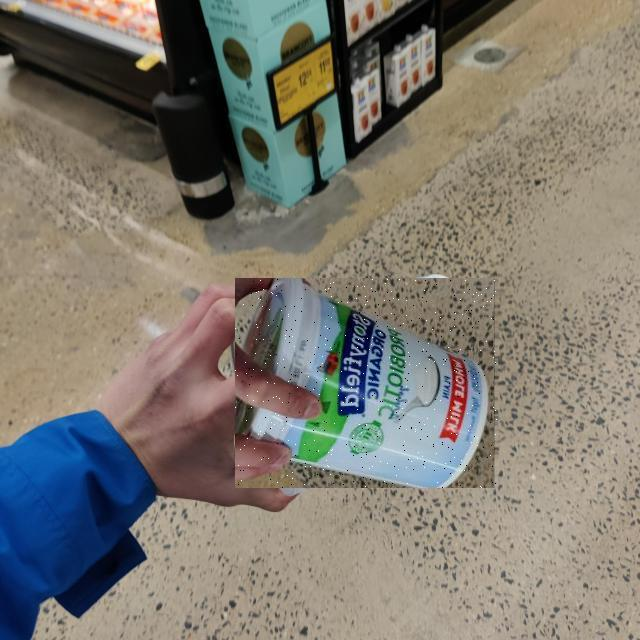Yoghurt: (236, 278, 498, 488)
